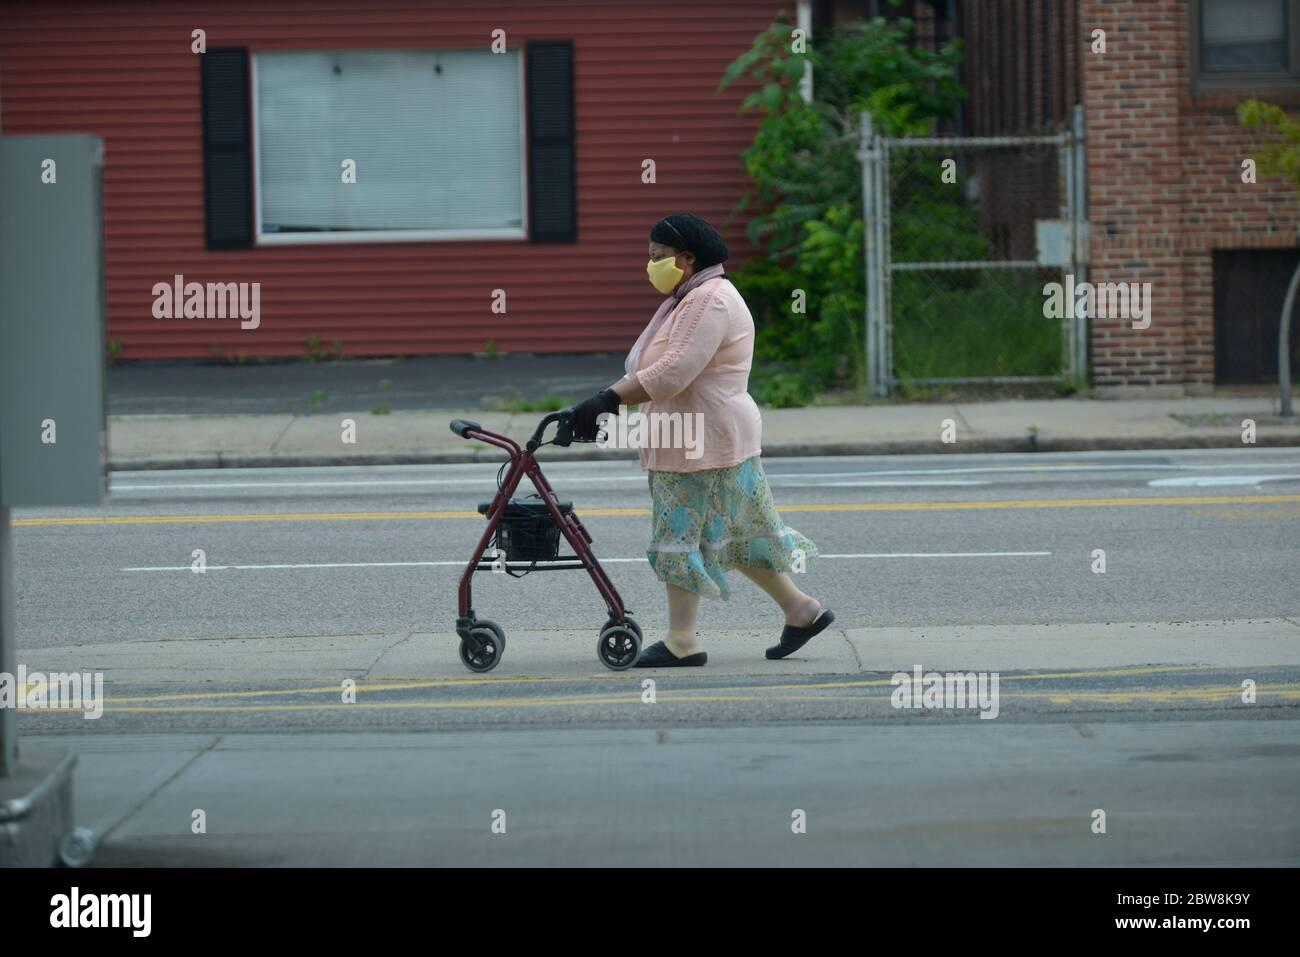walking_frame: (450, 211, 836, 674)
